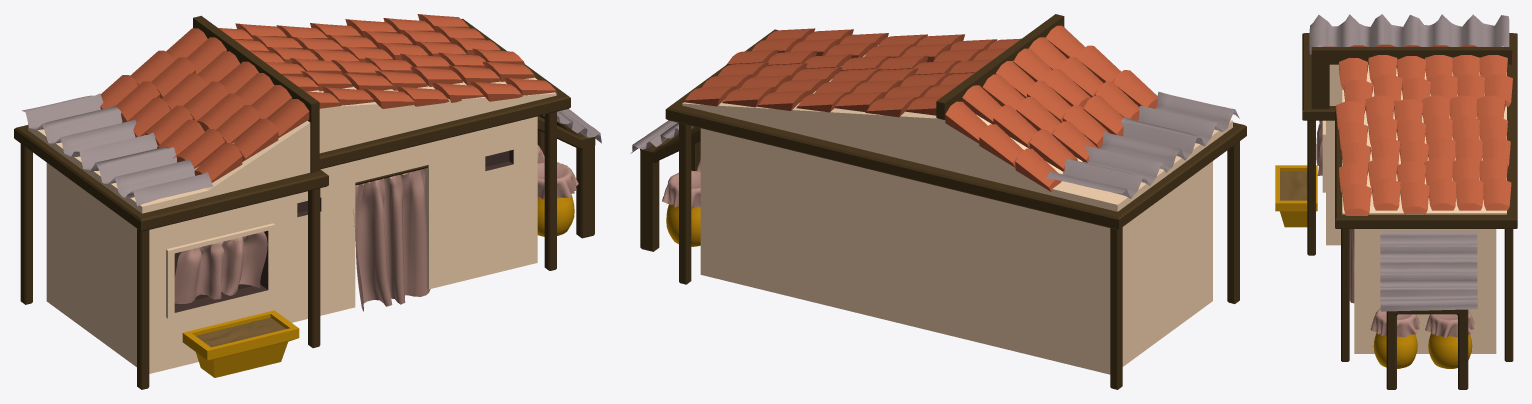
Rendered from TownHouse.fbx.
3 views of the same model, side by side, from view 1: azimuth 30°, elevation 25°; view 2: azimuth 150°, elevation 25°; view 3: azimuth 270°, elevation 25° (orthographic). The views are drawn at different scales.
Parts seen in each view (by area): view 1: Curtain; view 2: Curtain; view 3: Curtain.
Boxes of the visible parts, <box> form: Curtain: <box>14,14,601,389</box>; Curtain: <box>630,14,1246,389</box>; Curtain: <box>1275,14,1517,389</box>.
Size of the model in its own units: 1187 by 547 by 577.
